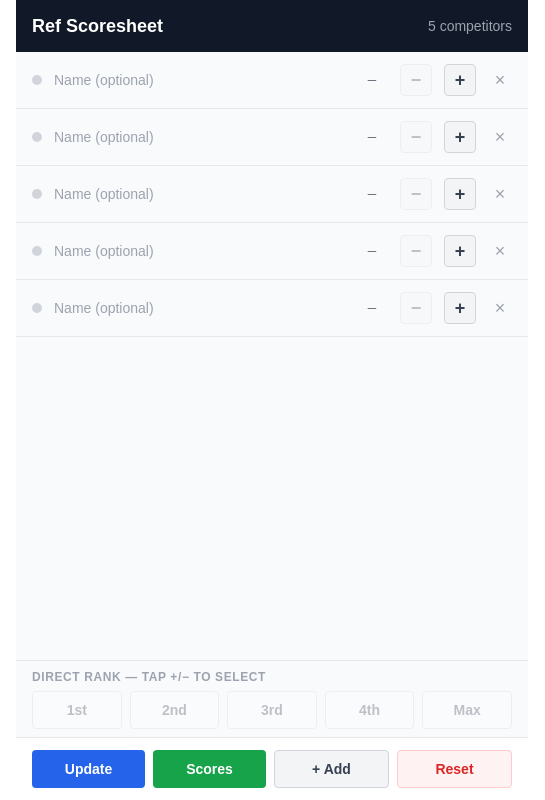
it: ScoresheetPage › 1st button sets active competitor to 1 tick (1st place)
Click the button named "increase ticks".
click(460, 80)  # box left=444, top=64, right=476, bottom=96
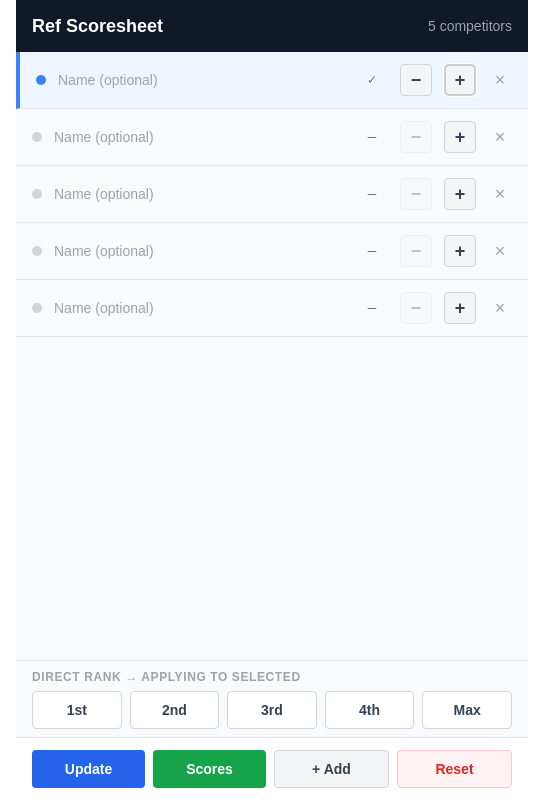
Click the button named "increase ticks".
click(460, 80)  # box left=444, top=64, right=476, bottom=96
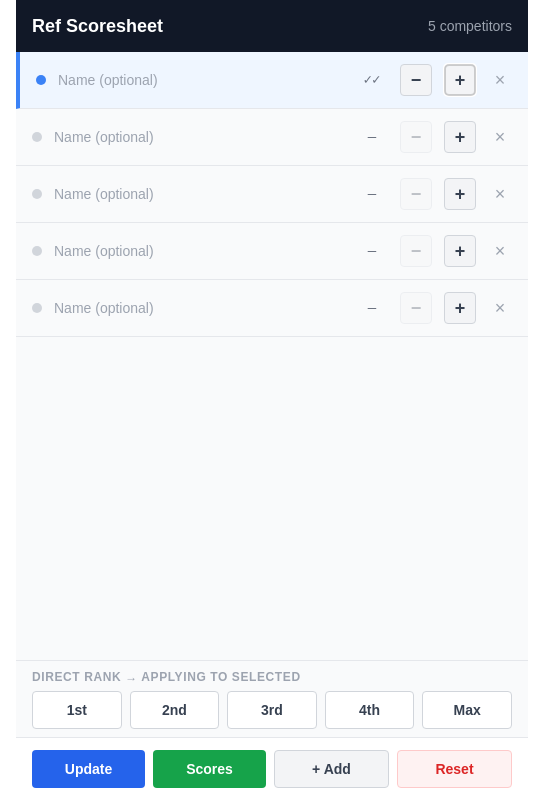
Expected: the text "✓✓" is shown, left=364, top=72, right=380, bottom=88
Click the button "1st".
click(77, 710)  # box left=32, top=691, right=122, bottom=729
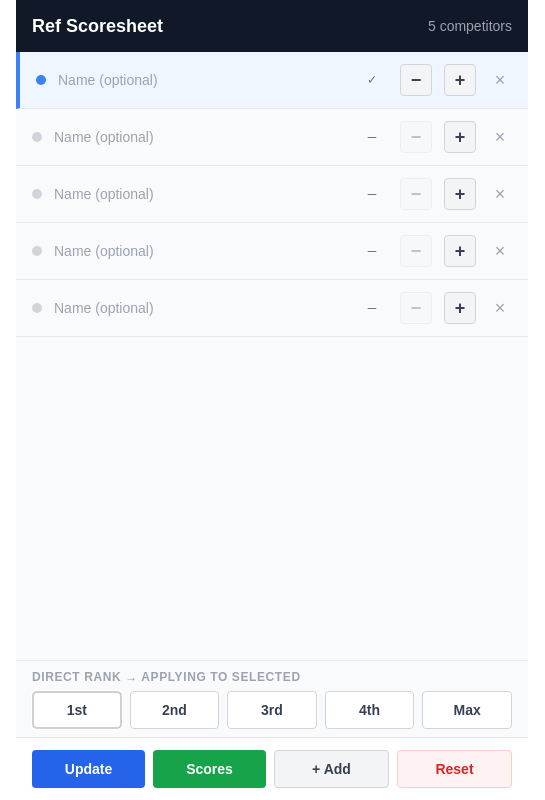
Expected: the text "✓" is shown, left=368, top=72, right=376, bottom=88
Expected: the text "✓✓" is gone
